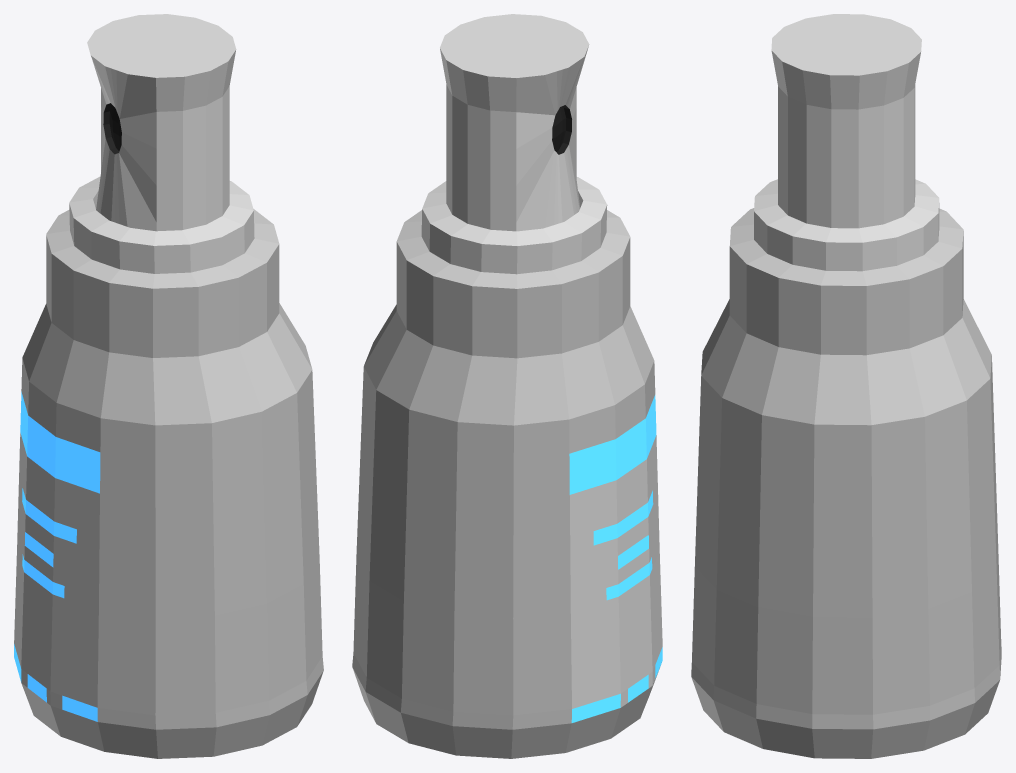
File: desinfetante.fbx
3 views of the same model, side by side, from view 1: azimuth 30°, elevation 25°; view 2: azimuth 150°, elevation 25°; view 3: azimuth 270°, elevation 25° (orthographic).
Parts seen in each view (by area): view 1: Desinfetante_1; view 2: Desinfetante_1; view 3: Desinfetante_1.
Boxes of the visible parts, x1,y1,x2,y2 form: Desinfetante_1: [14, 14, 323, 758]; Desinfetante_1: [352, 14, 662, 758]; Desinfetante_1: [691, 14, 1001, 758].
Size of the model in its own units: 180 by 436 by 184.
